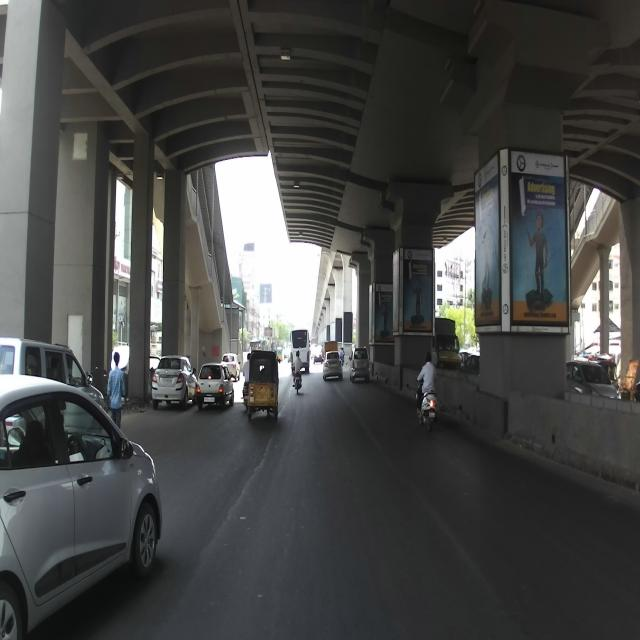car: (0, 372, 162, 638), (152, 351, 198, 408), (196, 359, 236, 413)
